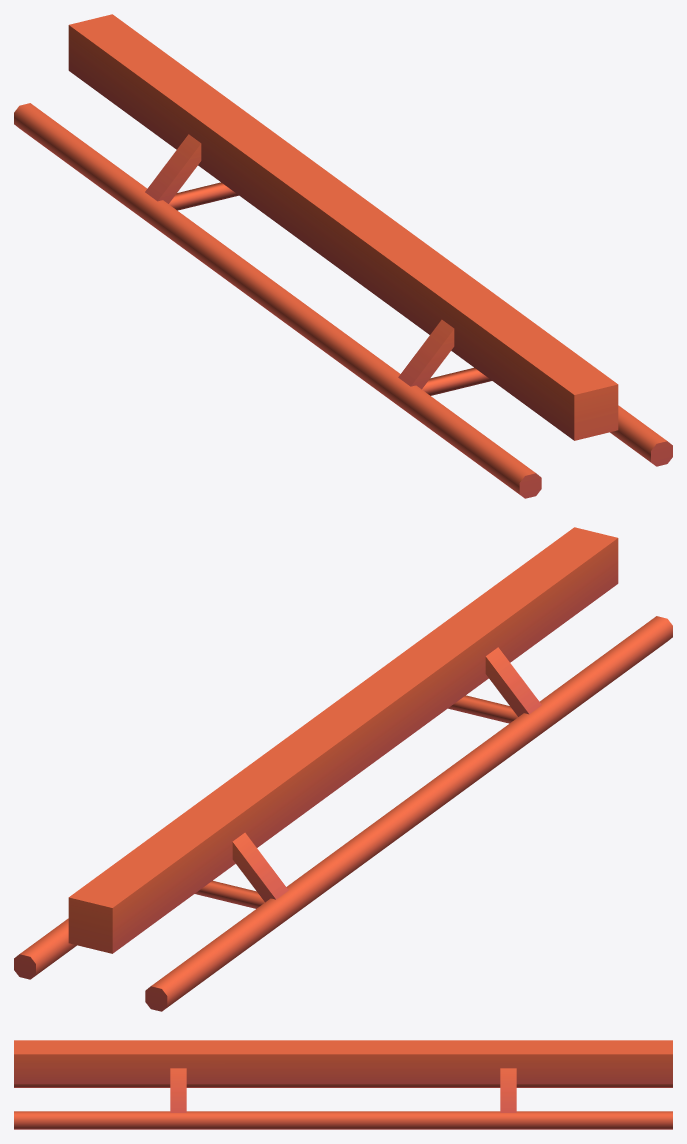
File: kenney-coaster-coaster-hanging-straight.glb
The picture shows the model from 3 angles, top to bottom: view 1: azimuth 30°, elevation 25°; view 2: azimuth 150°, elevation 25°; view 3: azimuth 270°, elevation 25°; orthographic projection. The views are drawn at different scales.
Parts seen in each view (by area): view 1: coaster-hanging-straight; view 2: coaster-hanging-straight; view 3: coaster-hanging-straight.
Part boxes in pixels (x1,y1,x2,y2): coaster-hanging-straight: (14,14,672,498); coaster-hanging-straight: (14,527,672,1011); coaster-hanging-straight: (14,1040,672,1129).
Size of the model in its own units: 0.6997 by 0.3999 by 4.
Materials: 1 (1 with a texture image).
